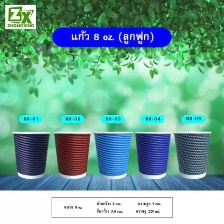paper_cup: (171, 128, 215, 182), (51, 127, 93, 181), (10, 127, 51, 181), (92, 128, 133, 181), (133, 128, 172, 182)
